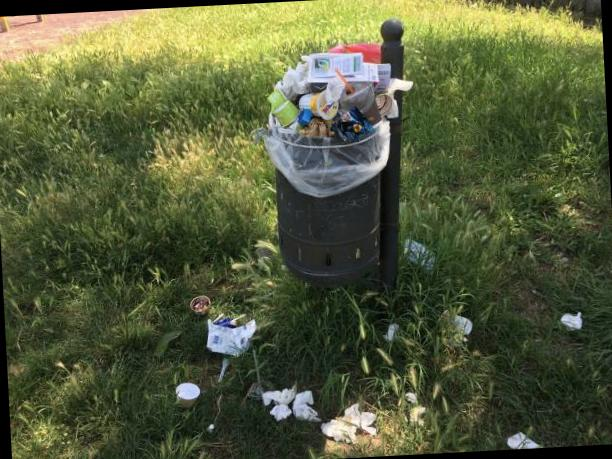trash: (258, 39, 398, 143), (312, 398, 375, 456), (404, 226, 450, 267), (534, 308, 586, 343), (381, 396, 433, 431), (206, 322, 252, 360), (370, 309, 399, 362), (443, 298, 480, 339), (272, 376, 308, 418), (167, 378, 201, 409), (180, 293, 210, 324), (396, 374, 418, 416), (514, 426, 544, 448)
trash_can_overflow: (228, 20, 456, 298)
